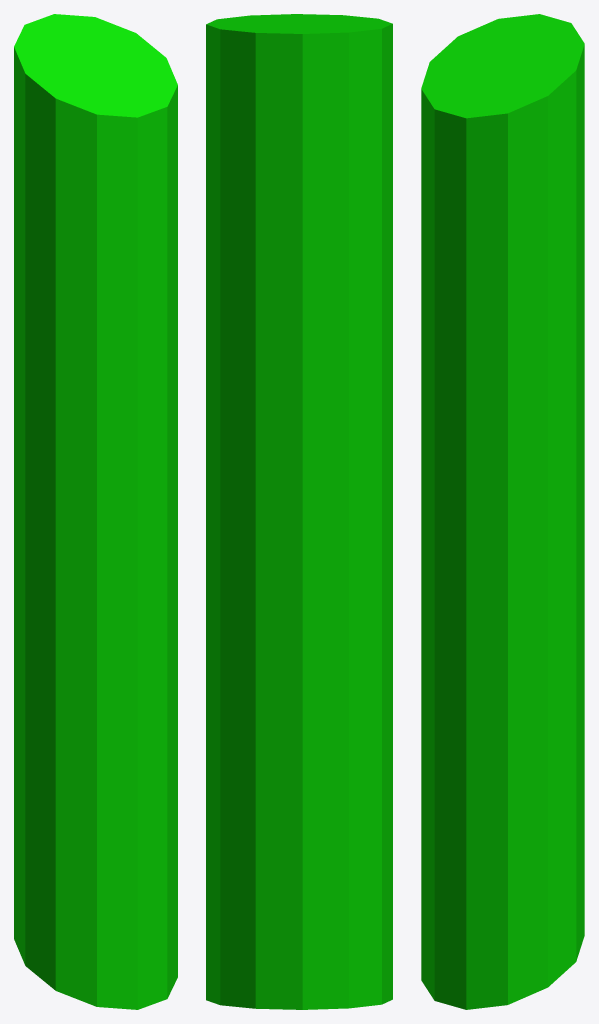
The model's file is sm_collider_012.fbx.
3 renders of one model, left to right at view 1: azimuth 30°, elevation 25°; view 2: azimuth 150°, elevation 25°; view 3: azimuth 270°, elevation 25°, orthographic. The views are drawn at different scales.
Parts seen in each view (by area): view 1: sm_collider.012; view 2: sm_collider.012; view 3: sm_collider.012.
Part boxes in pixels (x1,y1,x2,y2): sm_collider.012: [14, 14, 177, 1009]; sm_collider.012: [206, 14, 392, 1009]; sm_collider.012: [421, 14, 584, 1009].
Size of the model in its own units: 262 by 1615 by 254.
